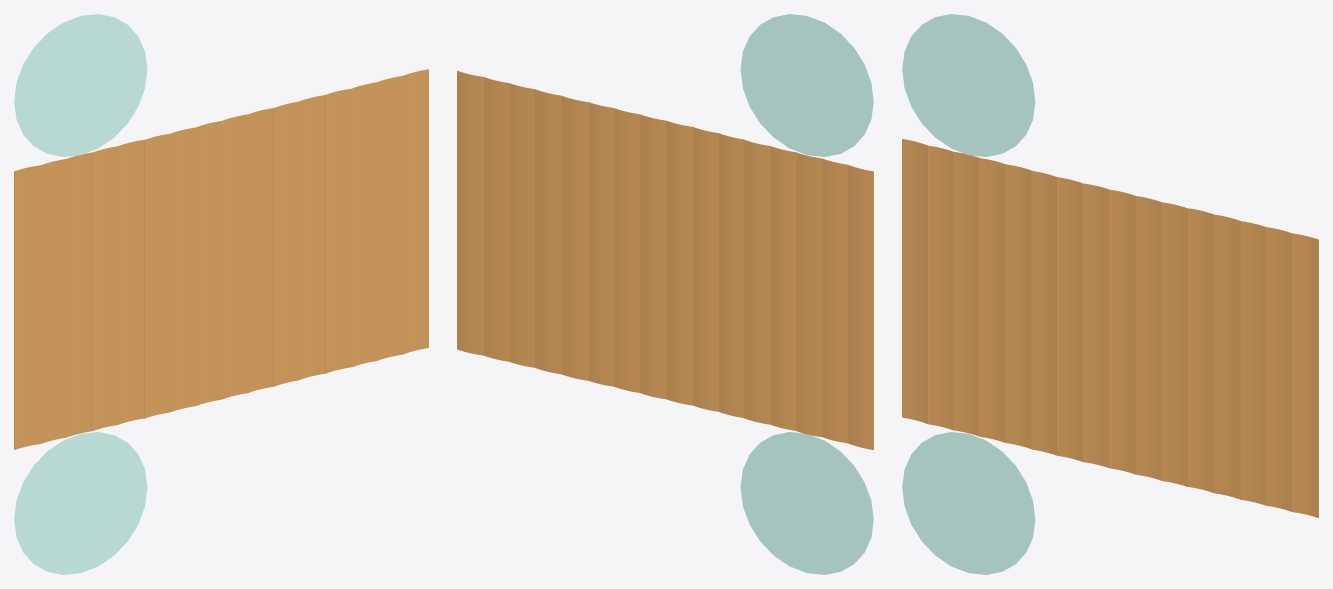
3 views of the same model, side by side, from view 1: azimuth 30°, elevation 25°; view 2: azimuth 150°, elevation 25°; view 3: azimuth 330°, elevation 25° (orthographic).
Parts seen in each view (by area): view 1: 未命名.017, 未命名.016, 未命名.008, 未命名.015, 未命名, 未命名.003, 未命名.007, 未命名.010, 未命名.011, 未命名.012, 未命名.004, 未命名.006 (+6 smaller); view 2: 未命名.016, 未命名.017, 未命名.004, 未命名.008, 未命名.011, 未命名.007, 未命名.015, 未命名.002, 未命名.003, 未命名.012, 未命名, 未命名.013 (+6 smaller); view 3: 未命名.016, 未命名.017, 未命名.007, 未命名.011, 未命名.004, 未命名.013, 未命名.008, 未命名.015, 未命名.003, 未命名.005, 未命名.010, 未命名.012 (+6 smaller).
Part boxes in pixels (x1,y1,x2,y2): 未命名.017: (14, 432, 147, 574); 未命名.016: (14, 14, 147, 156); 未命名.008: (222, 114, 248, 399); 未命名.015: (402, 69, 428, 354); 未命名: (14, 165, 40, 449); 未命名.003: (91, 146, 117, 431); 未命名.007: (195, 121, 221, 405); 未命名.010: (273, 101, 299, 386); 未命名.011: (299, 95, 325, 379); 未命名.012: (325, 88, 351, 373); 未命名.004: (118, 140, 144, 424); 未命名.006: (170, 127, 195, 412); 未命名.016: (740, 14, 873, 156); 未命名.017: (740, 432, 873, 574); 未命名.004: (743, 139, 770, 424); 未命名.008: (639, 114, 666, 399); 未命名.011: (561, 96, 588, 380); 未命名.007: (666, 120, 692, 405); 未命名.015: (457, 70, 483, 355); 未命名.002: (796, 152, 822, 436); 未命名.003: (770, 146, 796, 430); 未命名.012: (535, 89, 561, 374); 未命名: (847, 165, 873, 449); 未命名.013: (509, 83, 534, 367); 未命名.016: (902, 14, 1035, 156); 未命名.017: (902, 432, 1035, 574); 未命名.007: (1082, 183, 1109, 468); 未命名.011: (1187, 208, 1214, 492); 未命名.004: (1005, 164, 1031, 448); 未命名.013: (1240, 221, 1266, 505); 未命名.008: (1109, 189, 1135, 474); 未命名.015: (1292, 233, 1318, 518); 未命名.003: (979, 158, 1005, 442); 未命名.005: (1031, 171, 1057, 455); 未命名.010: (1161, 202, 1187, 486); 未命名.012: (1214, 214, 1240, 499).
Size of the model in its own units: 3.96 by 5.08 by 0.0358.
